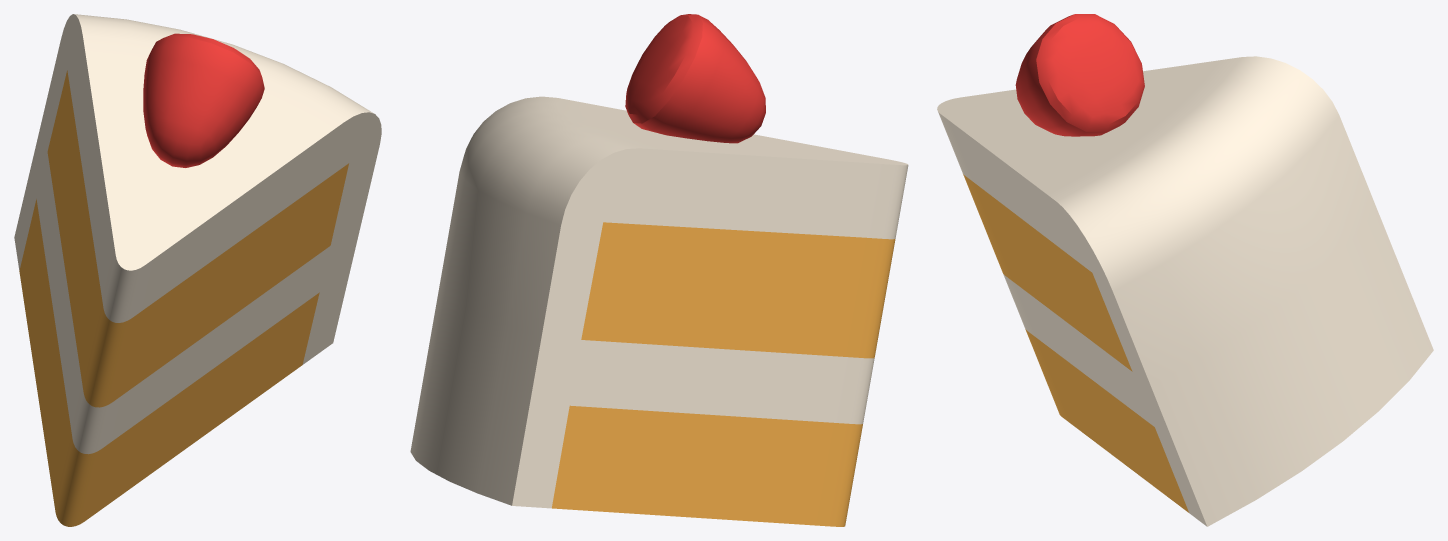
The model's file is shortcake.fbx.
3 views of the same model, side by side, from view 1: azimuth 30°, elevation 25°; view 2: azimuth 150°, elevation 25°; view 3: azimuth 270°, elevation 25° (orthographic). The views are drawn at different scales.
Parts seen in each view (by area): view 1: Circle.2258; view 2: Circle.2258; view 3: Circle.2258.
Part boxes in pixels (x1,y1,x2,y2): Circle.2258: (14, 14, 381, 526); Circle.2258: (410, 14, 908, 526); Circle.2258: (937, 14, 1433, 526).
Size of the model in its own units: 162 by 205 by 202.
Materials: 1 (1 with a texture image).
